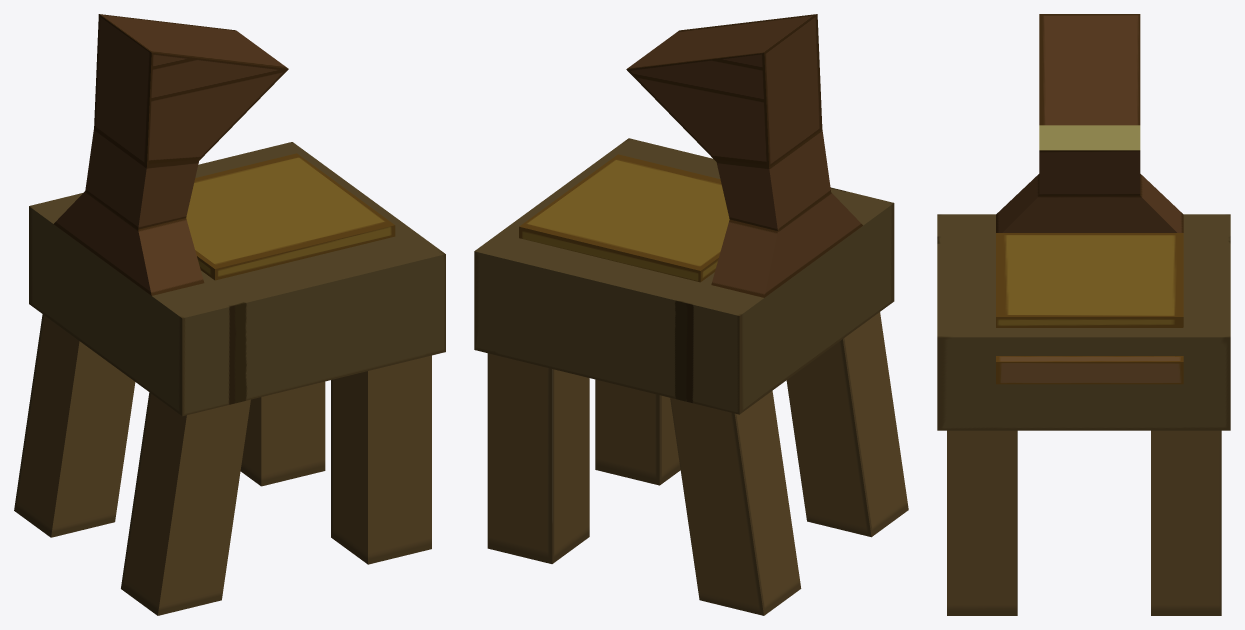
Rendered from Lighttable_Complete.fbx.
3 views of the same model, side by side, from view 1: azimuth 30°, elevation 25°; view 2: azimuth 150°, elevation 25°; view 3: azimuth 270°, elevation 25° (orthographic). The views are drawn at different scales.
Parts seen in each view (by area): view 1: group2_Tafelpoot_1; view 2: group2_Tafelpoot_1; view 3: group2_Tafelpoot_1.
Boxes of the visible parts, x1,y1,x2,y2 form: group2_Tafelpoot_1: (14,14,445,615); group2_Tafelpoot_1: (474,14,908,615); group2_Tafelpoot_1: (937,14,1230,615).
Bounding box in the file's own units: 2.82 × 4.7 × 2.53.
